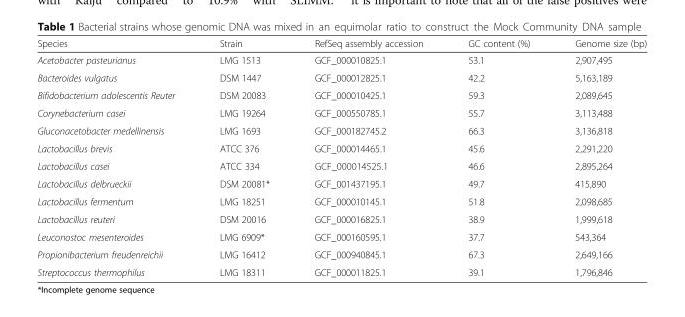table: (36, 37, 646, 277)
table column: (36, 37, 196, 277), (291, 37, 445, 277), (445, 37, 551, 277), (196, 37, 291, 277), (551, 37, 646, 277)
table column header: (36, 37, 646, 51)
table row: (36, 68, 646, 86), (36, 103, 646, 121), (36, 121, 646, 139), (36, 156, 646, 174), (36, 174, 646, 192), (36, 209, 646, 227), (36, 227, 646, 245), (36, 245, 646, 263), (36, 51, 646, 68), (36, 86, 646, 103), (36, 139, 646, 156), (36, 192, 646, 209), (36, 37, 646, 51), (36, 263, 646, 277)
